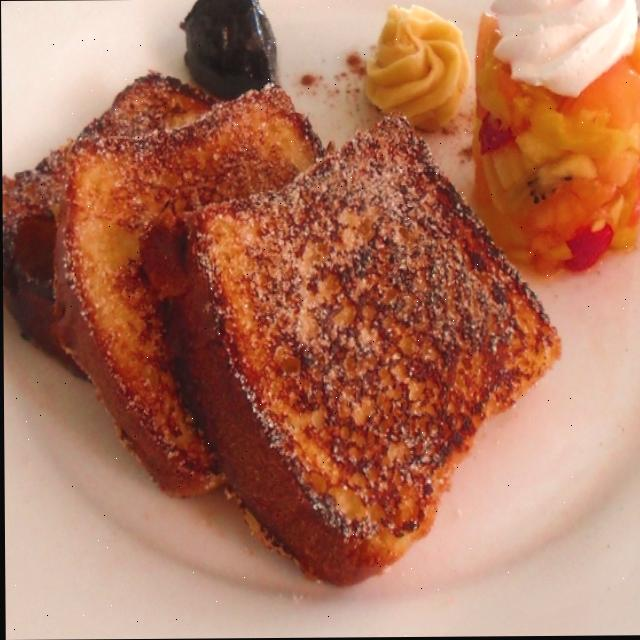面包点心: (0, 13, 584, 608)
